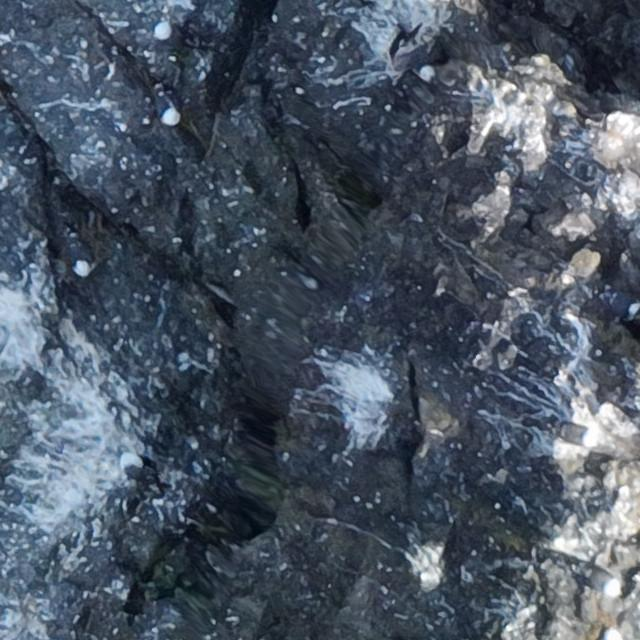umineko: (405, 41, 437, 81), (64, 230, 90, 276), (575, 566, 620, 592), (154, 22, 189, 54), (599, 291, 640, 315), (556, 424, 595, 444), (156, 91, 178, 126)
